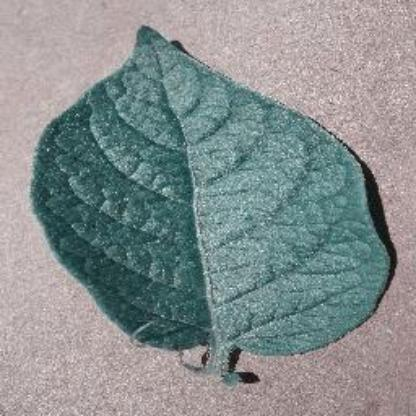Healthy-plant: (33, 22, 400, 400)
